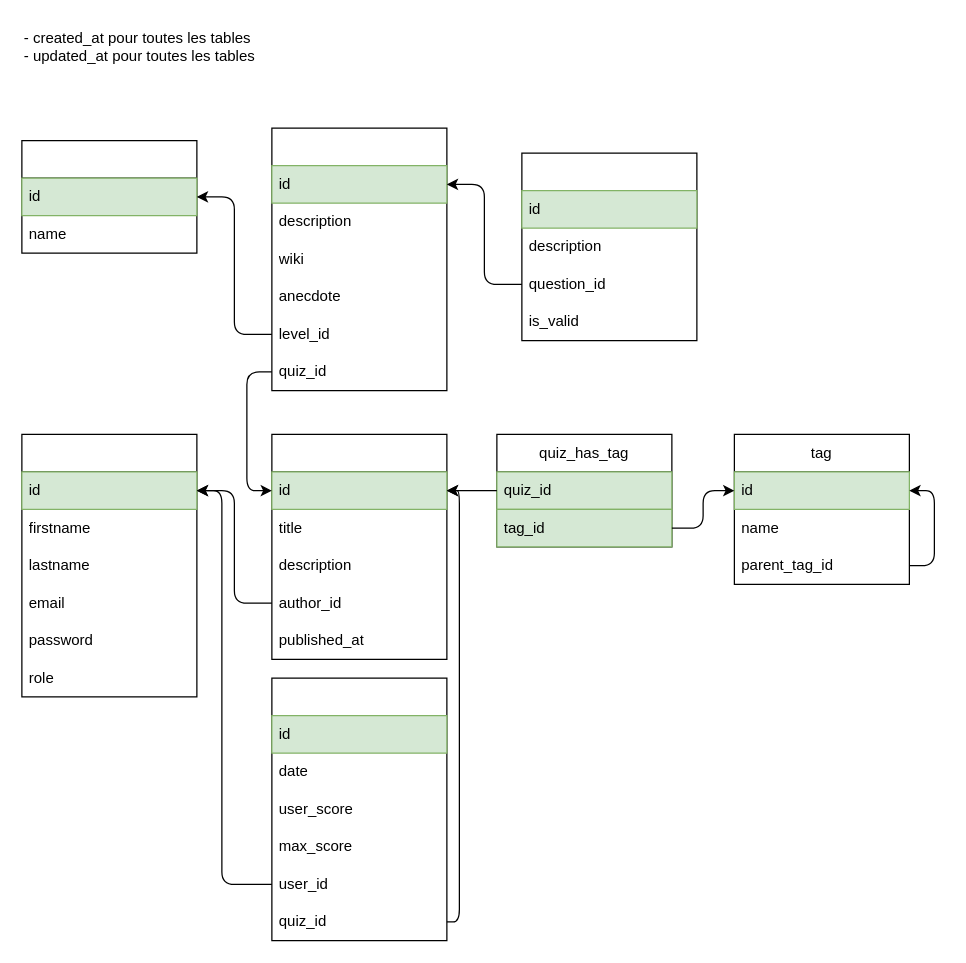
Some shapes in this 966 by 963 pixel diagram are drawn without their labels. The shapes that lost their labels are listed below. From the top down, each one's box as (x1, y1, x2, y2) in pixels, then its label:
(21, 139, 197, 253): level
(271, 127, 447, 391): question
(521, 152, 697, 341): choice
(21, 433, 197, 697): user
(271, 433, 447, 659): quiz
(271, 677, 447, 941): attempt
